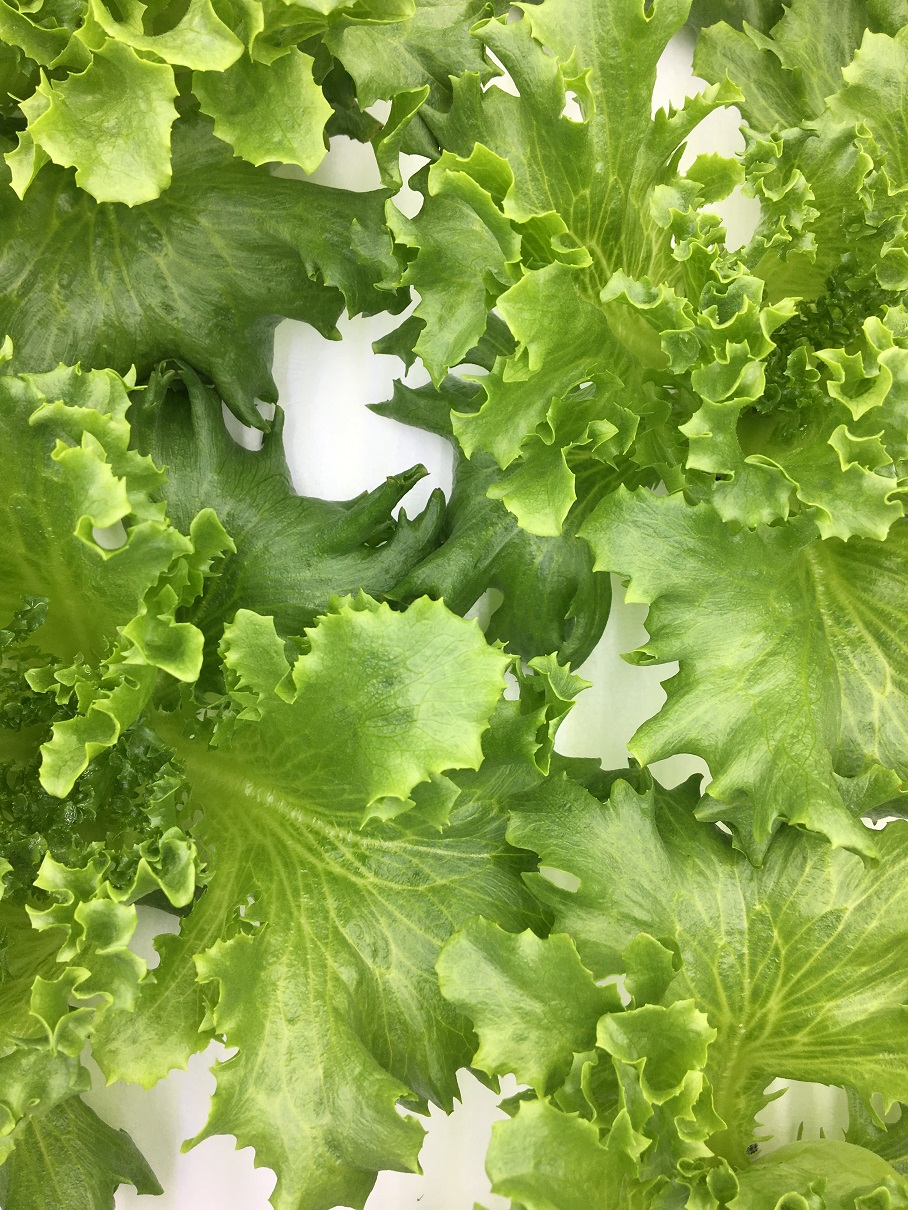tipburn: (372, 118, 389, 138)
